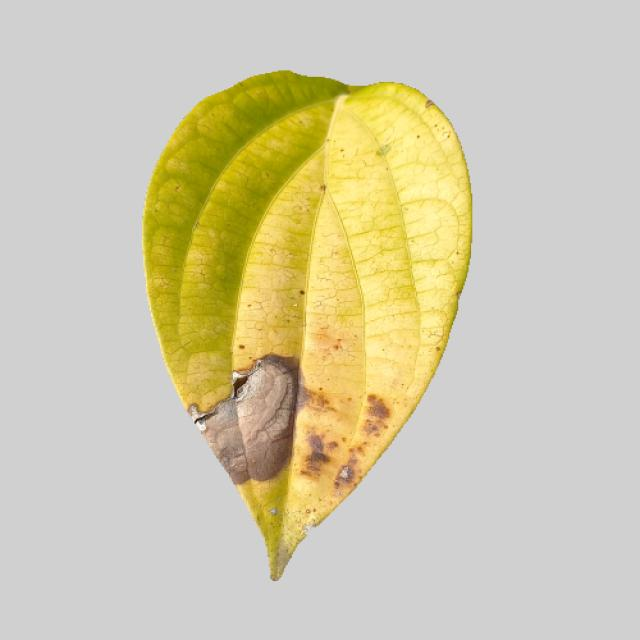leaf-blight: (121, 81, 488, 584)
